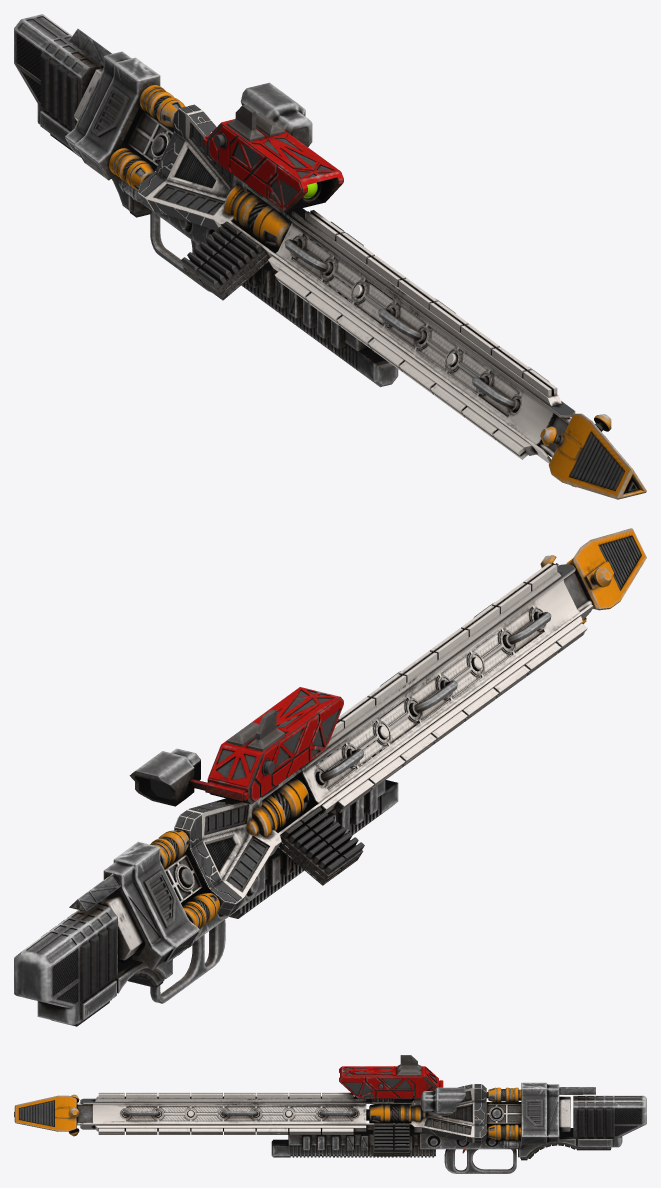
File: lance.glb
The picture shows the model from 3 angles, top to bottom: view 1: azimuth 30°, elevation 25°; view 2: azimuth 150°, elevation 25°; view 3: azimuth 270°, elevation 25°; orthographic projection. The views are drawn at different scales.
Parts seen in each view (by area): view 1: wzbr_0; view 2: wzbr_0; view 3: wzbr_0.
Part boxes in pixels (x1=…): wzbr_0: x1=14, y1=14, x2=646, y2=499; wzbr_0: x1=14, y1=528, x2=646, y2=1026; wzbr_0: x1=14, y1=1055, x2=646, y2=1173.
Size of the model in its own units: 0.373 by 0.5179 by 2.58.
Materials: 3 (1 with a texture image).
